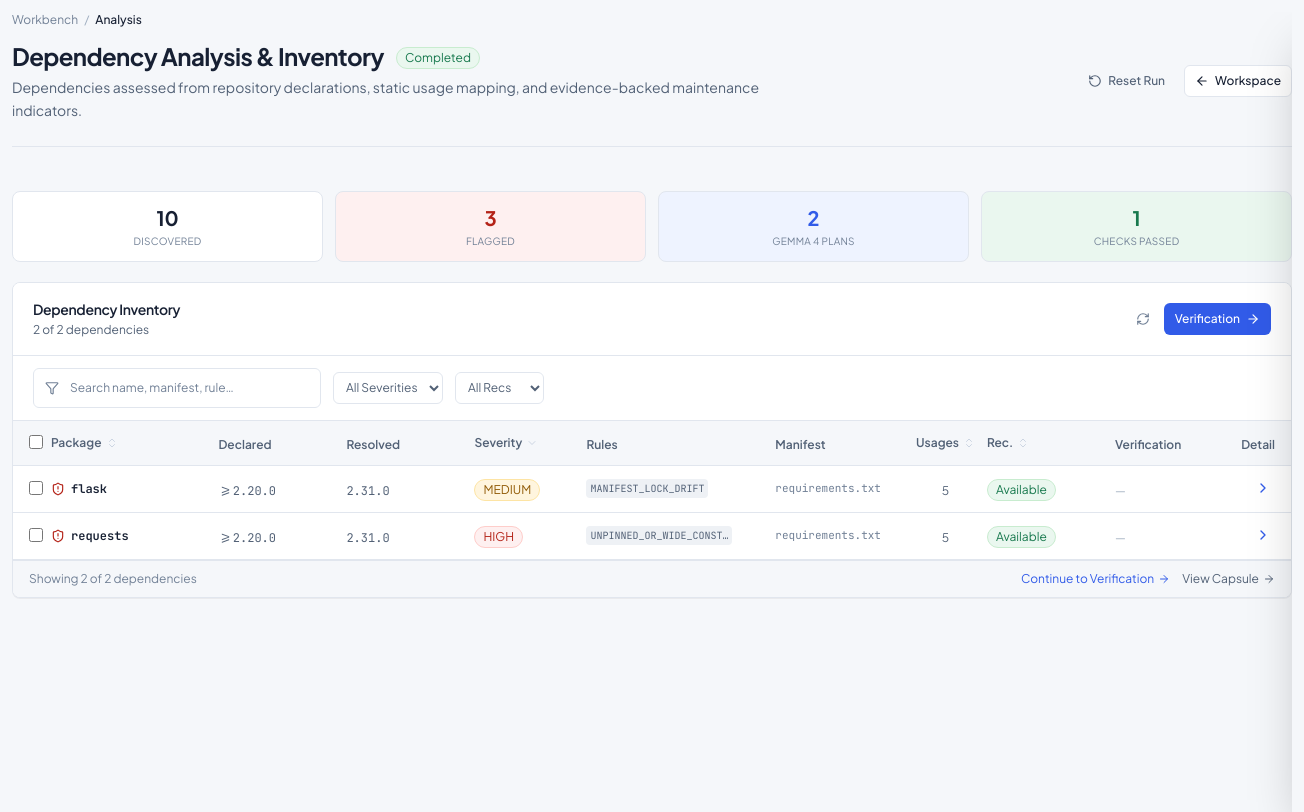
AnalysisPage — inventory loaded › filters by search query
Expected: the text "requests" is shown, [71, 528, 129, 544]
Type "flask" into the field with placeholder "Search name, manifest, rule…" at (177, 388), box [33, 368, 321, 408]
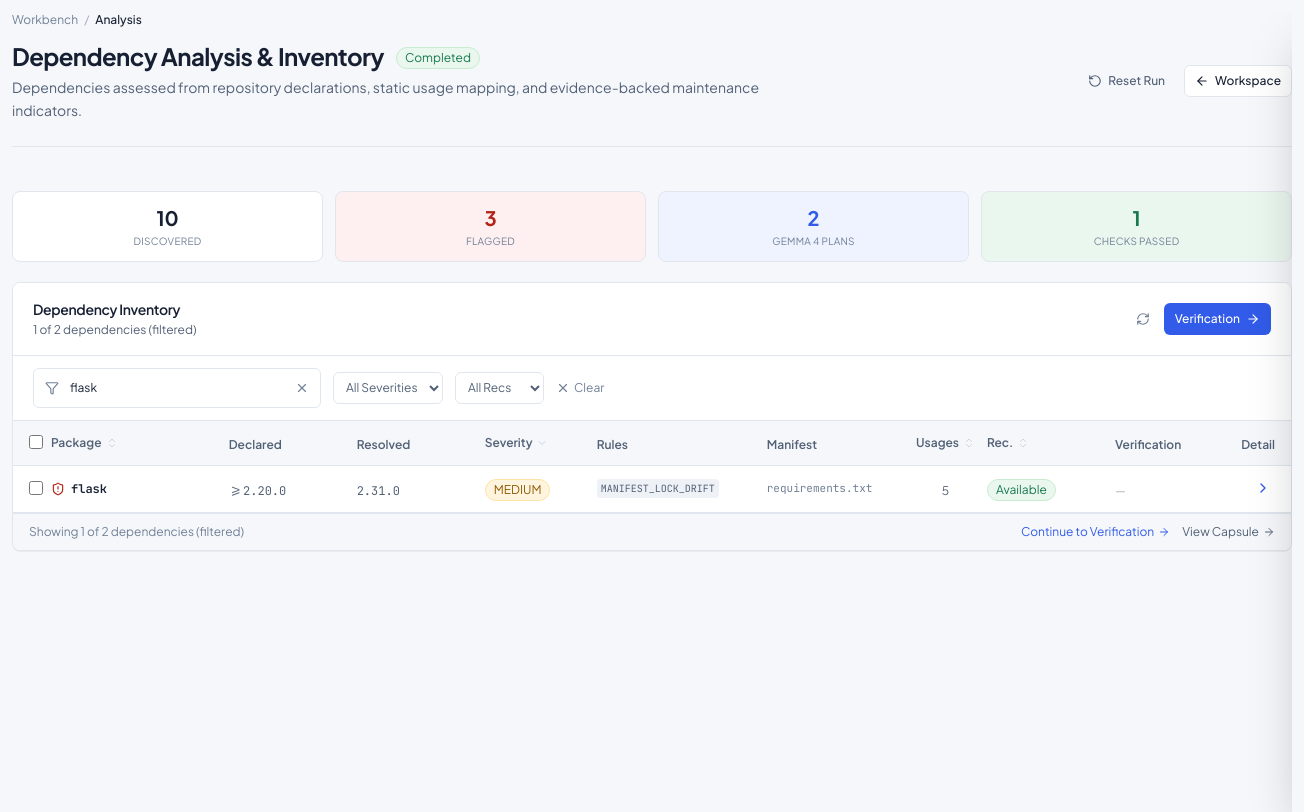
Expected: the text "flask" is shown, [71, 480, 107, 496]
Now the text "requests" is gone
